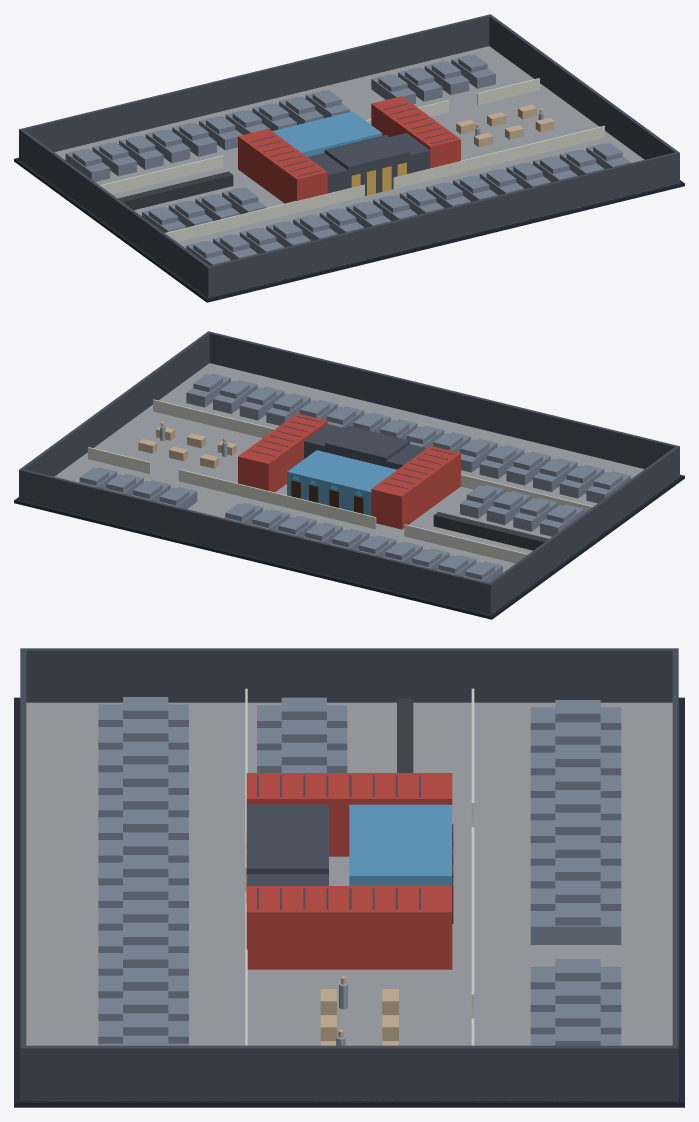
3 views of the same model, one above another, from view 1: azimuth 30°, elevation 25°; view 2: azimuth 150°, elevation 25°; view 3: azimuth 270°, elevation 25° (orthographic). The views are drawn at different scales.
Visible parts, largest first — view 1: LB2_core, LB2_car, LB2_floor_tile, LB2_wall, LB2_stair, LB2_slab, LB2_wash, LB2_counter, LB2_desk, LB2_lift; view 2: LB2_core, LB2_car, LB2_floor_tile, LB2_stair, LB2_wall, LB2_wash, LB2_slab, LB2_counter, LB2_desk, LB2_door_closed; view 3: LB2_floor_tile, LB2_core, LB2_car, LB2_stair, LB2_slab, LB2_wash, LB2_wall, LB2_desk, LB2_counter.
Boxes of the visible parts, bbox=[...] form: LB2_core: bbox=[19, 14, 679, 297]; LB2_car: bbox=[65, 54, 630, 265]; LB2_floor_tile: bbox=[21, 46, 677, 297]; LB2_wall: bbox=[100, 78, 604, 241]; LB2_stair: bbox=[238, 96, 460, 203]; LB2_slab: bbox=[14, 157, 684, 302]; LB2_wash: bbox=[272, 111, 382, 156]; LB2_counter: bbox=[118, 171, 233, 210]; LB2_desk: bbox=[456, 104, 554, 147]; LB2_lift: bbox=[351, 162, 406, 195]; LB2_core: bbox=[19, 331, 679, 614]; LB2_car: bbox=[78, 373, 630, 582]; LB2_floor_tile: bbox=[28, 363, 679, 614]; LB2_stair: bbox=[238, 413, 460, 529]; LB2_wall: bbox=[88, 399, 592, 563]; LB2_wash: bbox=[287, 450, 396, 515]; LB2_slab: bbox=[14, 474, 684, 619]; LB2_counter: bbox=[433, 512, 548, 550]; LB2_desk: bbox=[138, 427, 236, 468]; LB2_door_closed: bbox=[291, 480, 363, 513]; LB2_floor_tile: bbox=[26, 702, 677, 1100]; LB2_core: bbox=[20, 648, 678, 1100]; LB2_car: bbox=[98, 697, 621, 1045]; LB2_stair: bbox=[246, 773, 452, 969]; LB2_slab: bbox=[14, 697, 684, 1107]; LB2_wash: bbox=[349, 804, 452, 885]; LB2_wall: bbox=[245, 688, 474, 1045]; LB2_desk: bbox=[320, 989, 398, 1045]; LB2_counter: bbox=[397, 698, 413, 772].
Bounding box in the file's own units: 46.6 × 3.37 × 32.6.
